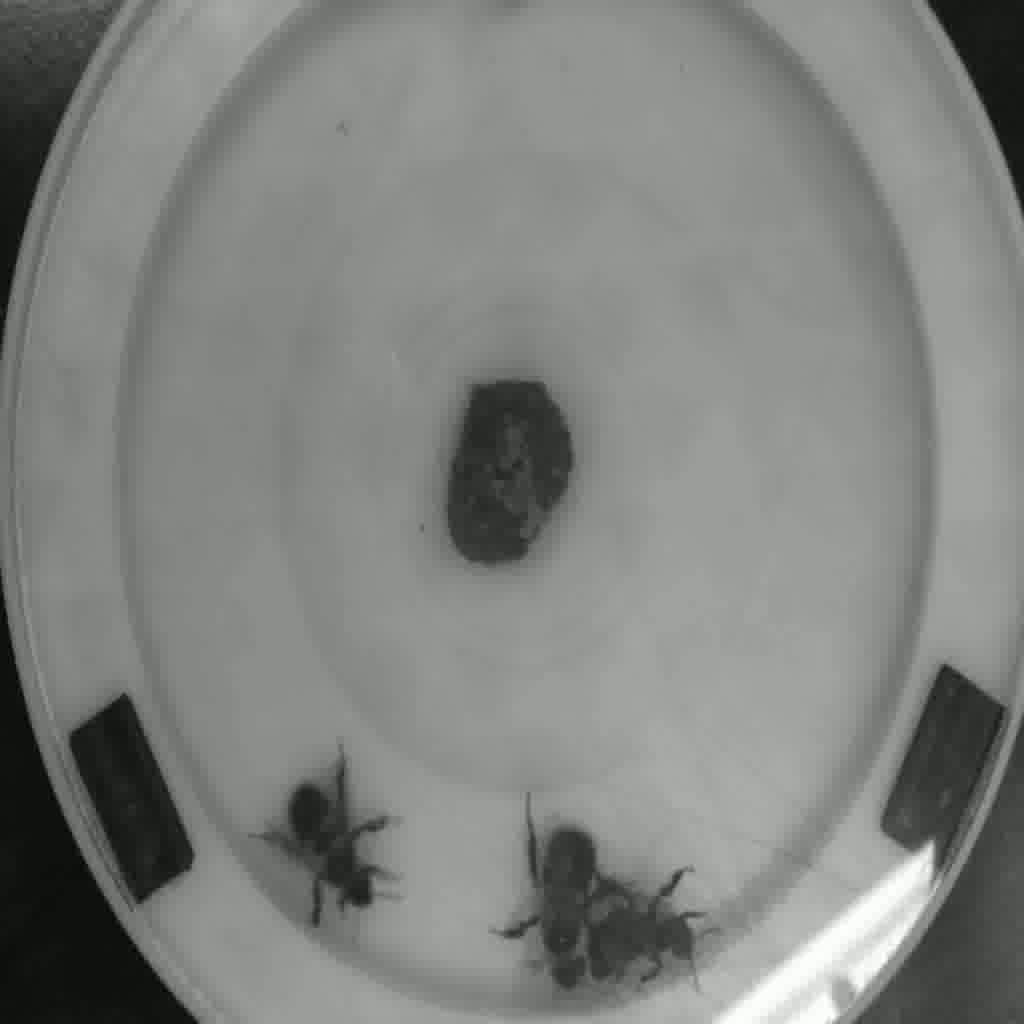bee: (253, 768, 391, 925), (520, 815, 628, 981), (598, 880, 712, 1009)
